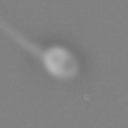normal: (1, 21, 44, 58)
